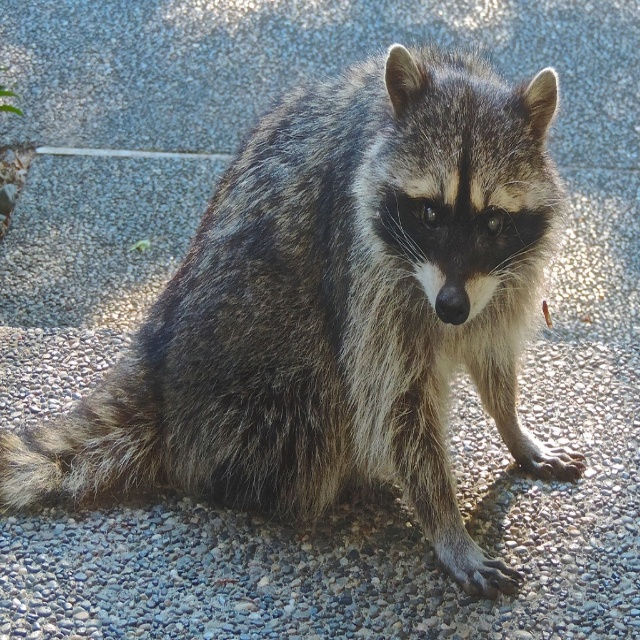Raccoon: (0, 23, 588, 600)
